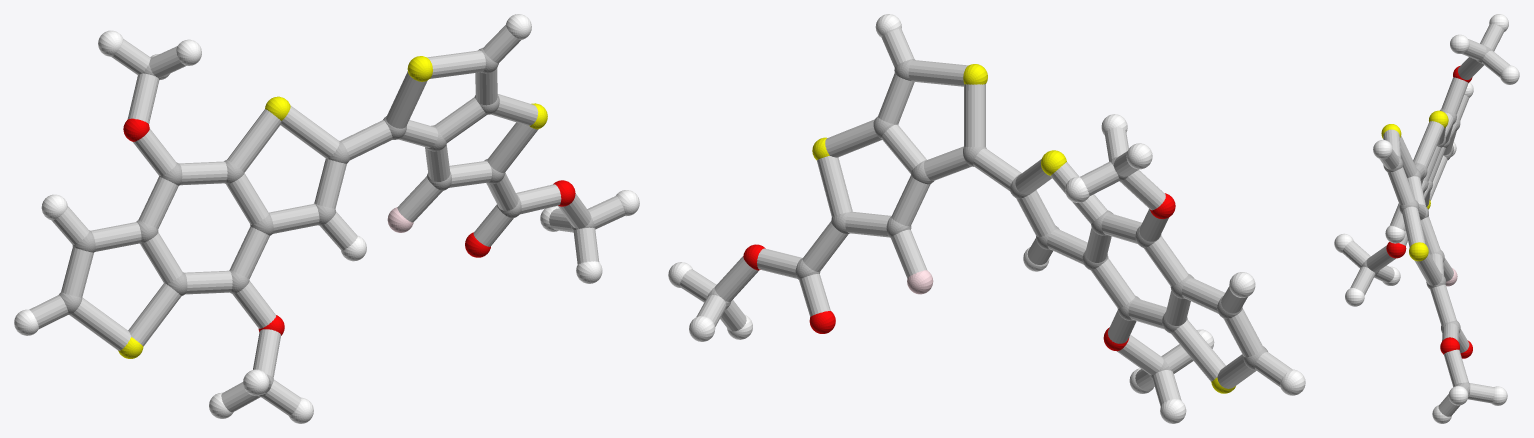
File: color.glb
3 views of the same model, side by side, from view 1: azimuth 30°, elevation 25°; view 2: azimuth 150°, elevation 25°; view 3: azimuth 270°, elevation 25° (orthographic). The views are drawn at different scales.
Visible parts, largest first — view 1: grp15205, grp8689, grp1, grp7241, grp13395; view 2: grp15205, grp8689, grp1, grp13395, grp7241; view 3: grp15205, grp8689, grp1, grp13395, grp7241.
Boxes of the visible parts, x1=… form: grp15205: x1=29, y1=25, x2=625, y2=415; grp8689: x1=14, y1=14, x2=639, y2=423; grp1: x1=58, y1=48, x2=594, y2=397; grp7241: x1=118, y1=56, x2=547, y2=358; grp13395: x1=123, y1=118, x2=575, y2=335; grp15205: x1=680, y1=28, x2=1292, y2=406; grp8689: x1=668, y1=14, x2=1305, y2=423; grp1: x1=707, y1=59, x2=1267, y2=378; grp13395: x1=743, y1=193, x2=1175, y2=351; grp7241: x1=812, y1=64, x2=1235, y2=393; grp15205: x1=1342, y1=23, x2=1509, y2=416; grp8689: x1=1334, y1=14, x2=1519, y2=423; grp1: x1=1361, y1=46, x2=1492, y2=388; grp13395: x1=1386, y1=65, x2=1472, y2=358; grp7241: x1=1381, y1=110, x2=1448, y2=261.
Bounding box in the file's own units: 16.51 × 8.6 × 5.62.
